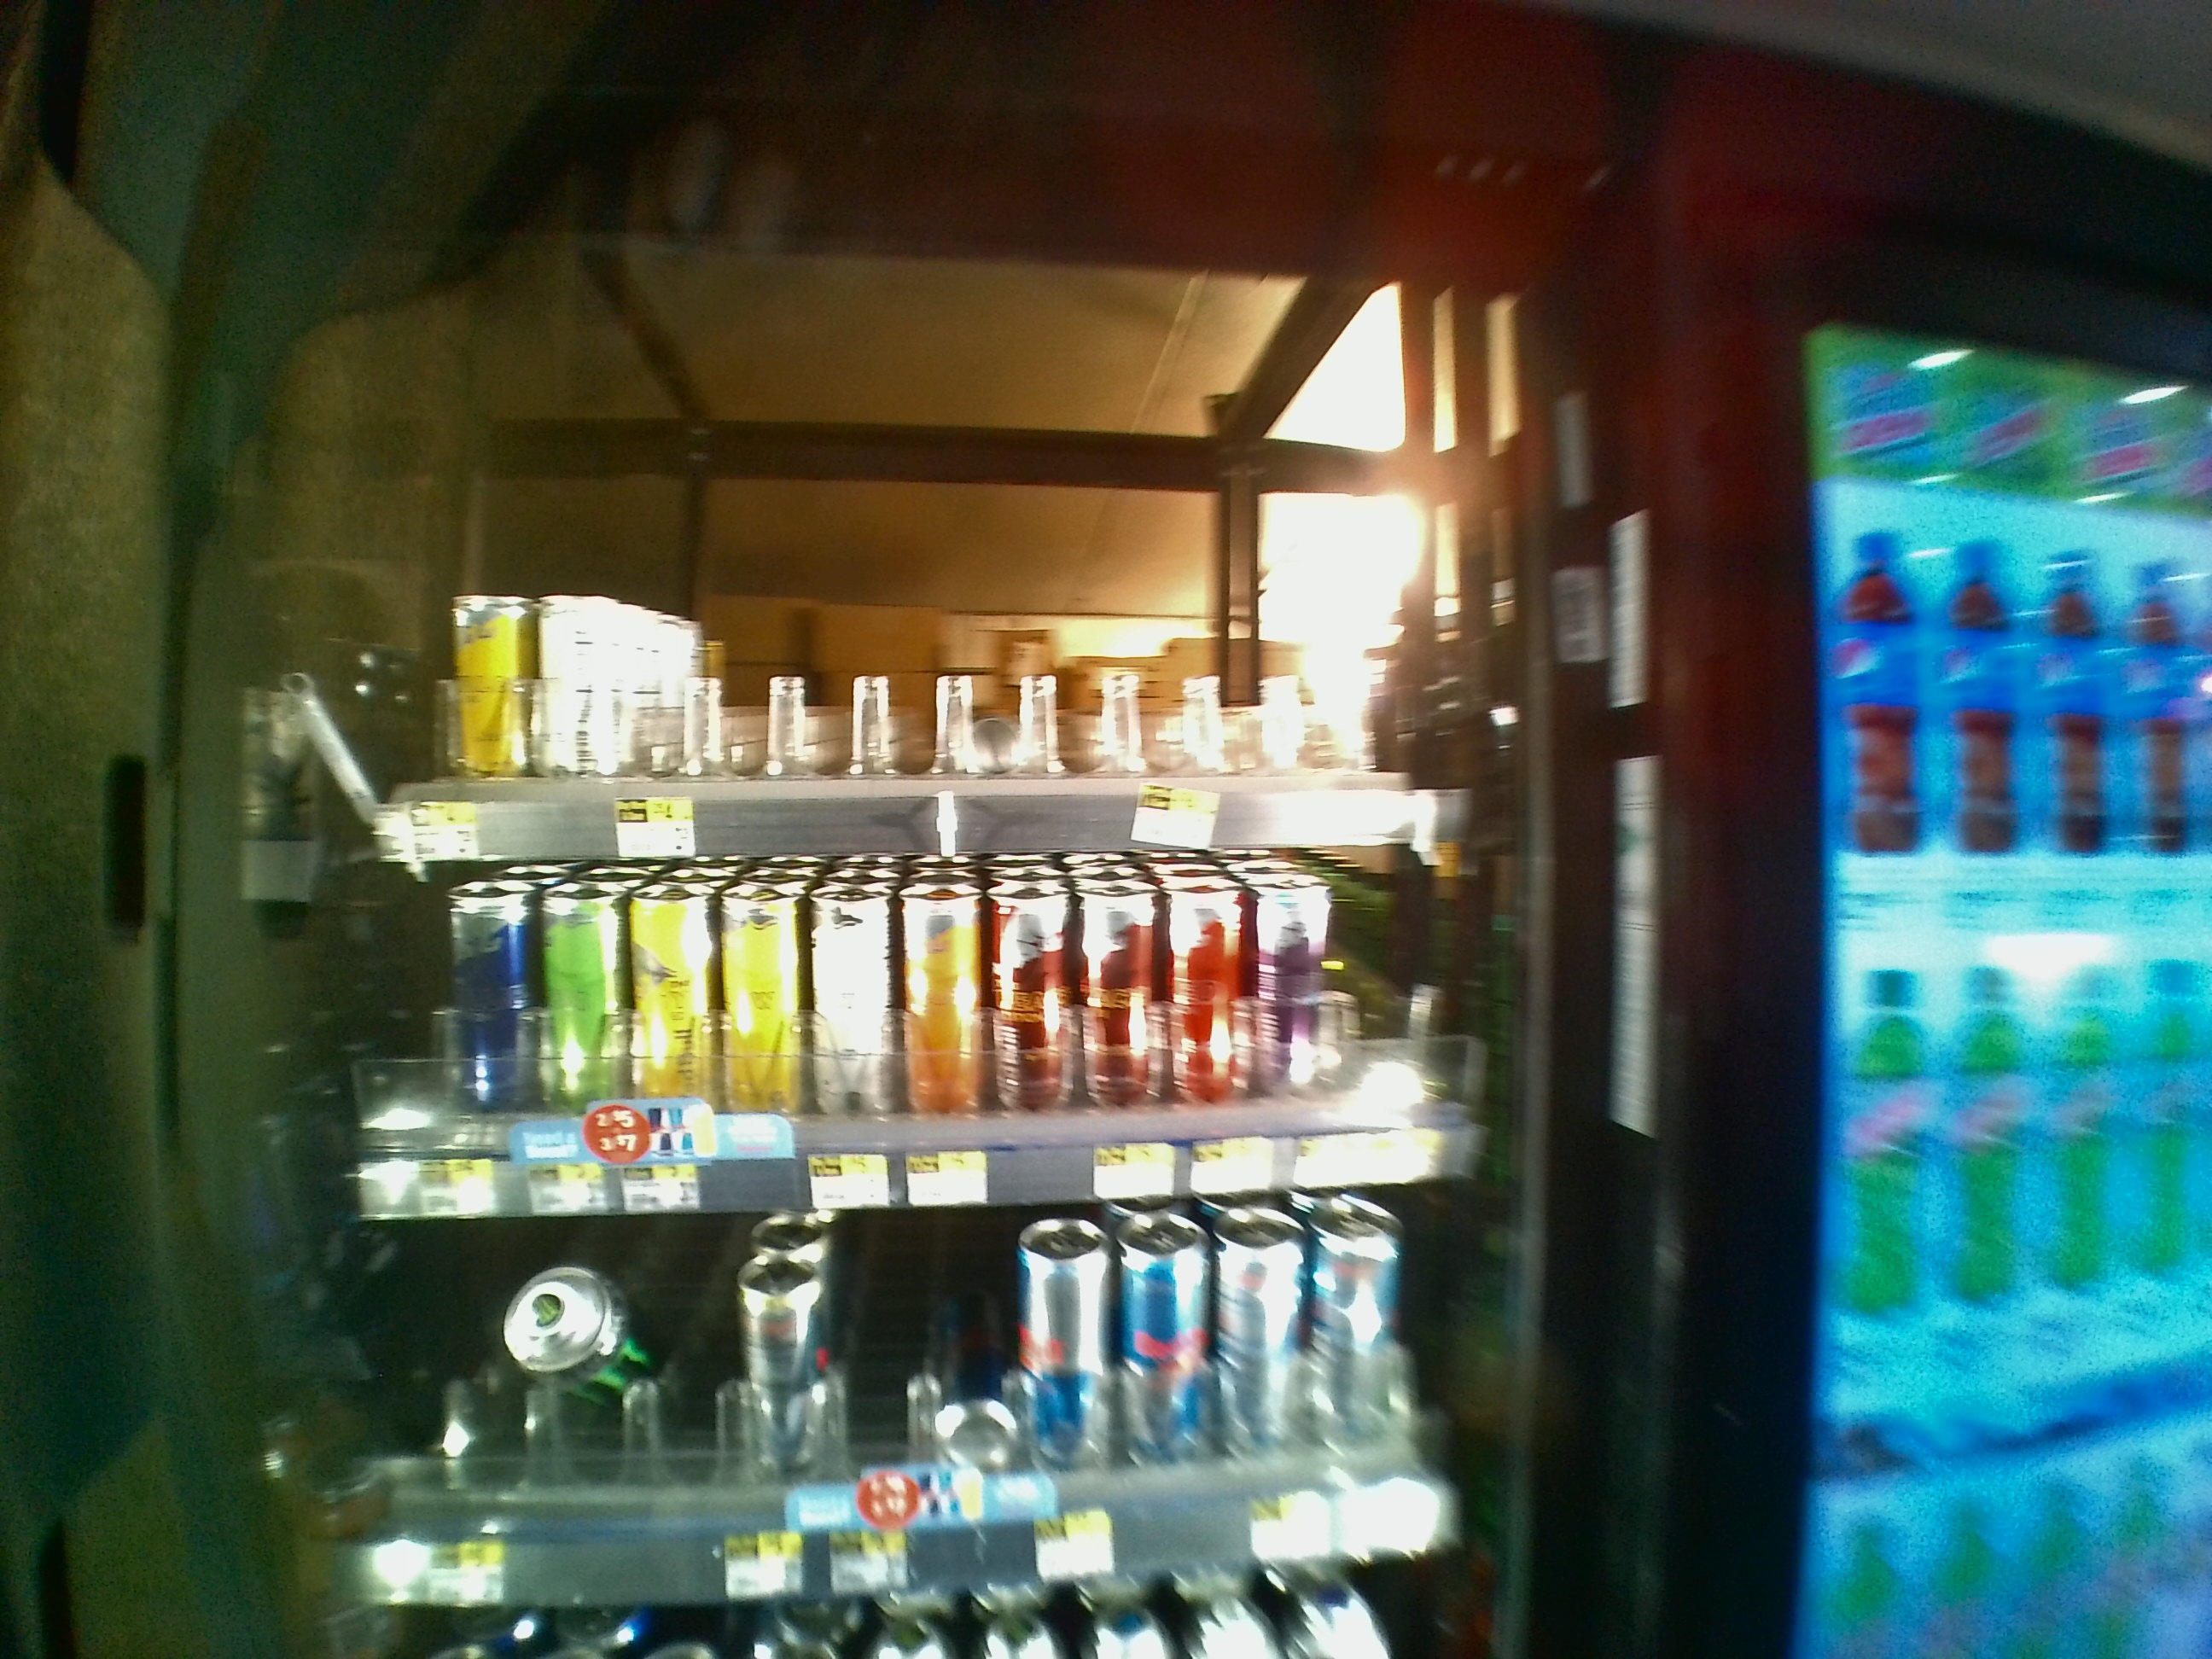shelf: (354, 249, 1541, 856), (340, 856, 1552, 1209)
